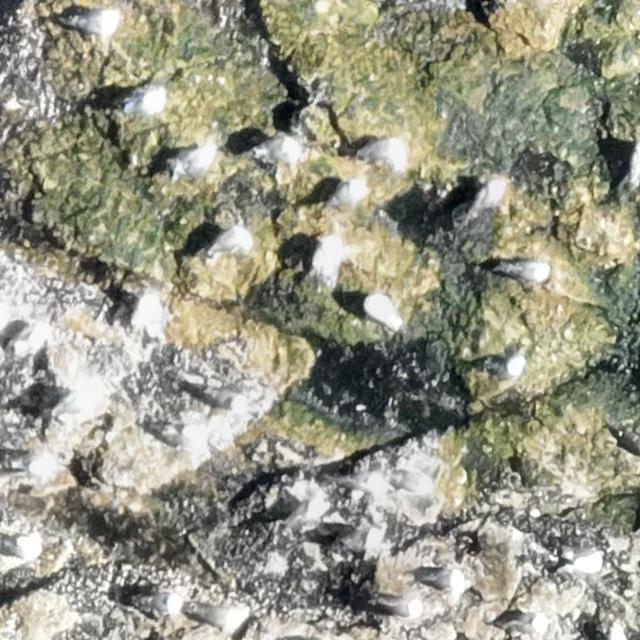umineko: (463, 178, 504, 230), (189, 602, 248, 630), (59, 9, 117, 35), (252, 135, 300, 165), (207, 226, 254, 256), (169, 148, 214, 178), (489, 260, 552, 281), (365, 293, 402, 328), (325, 179, 364, 210), (416, 568, 464, 592), (504, 612, 551, 636), (488, 356, 526, 385), (373, 597, 423, 619), (566, 548, 604, 574), (360, 139, 402, 162), (124, 90, 163, 114), (129, 592, 181, 610), (392, 471, 433, 493), (206, 391, 246, 411)
